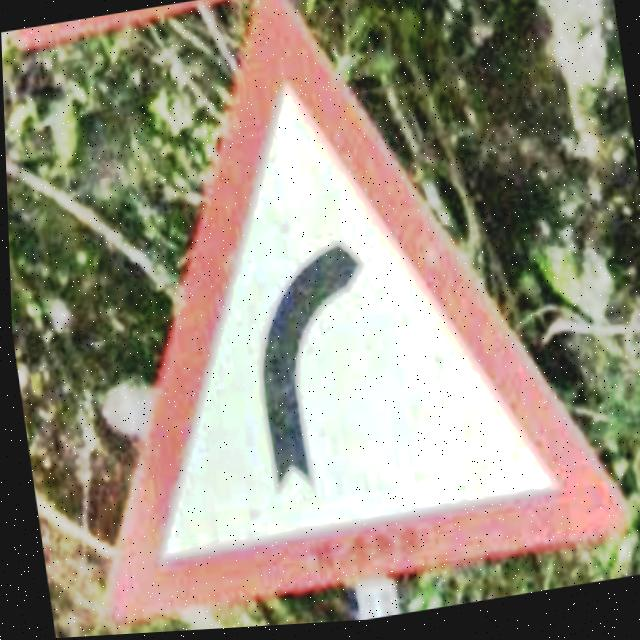rightbend: (104, 0, 623, 625)
